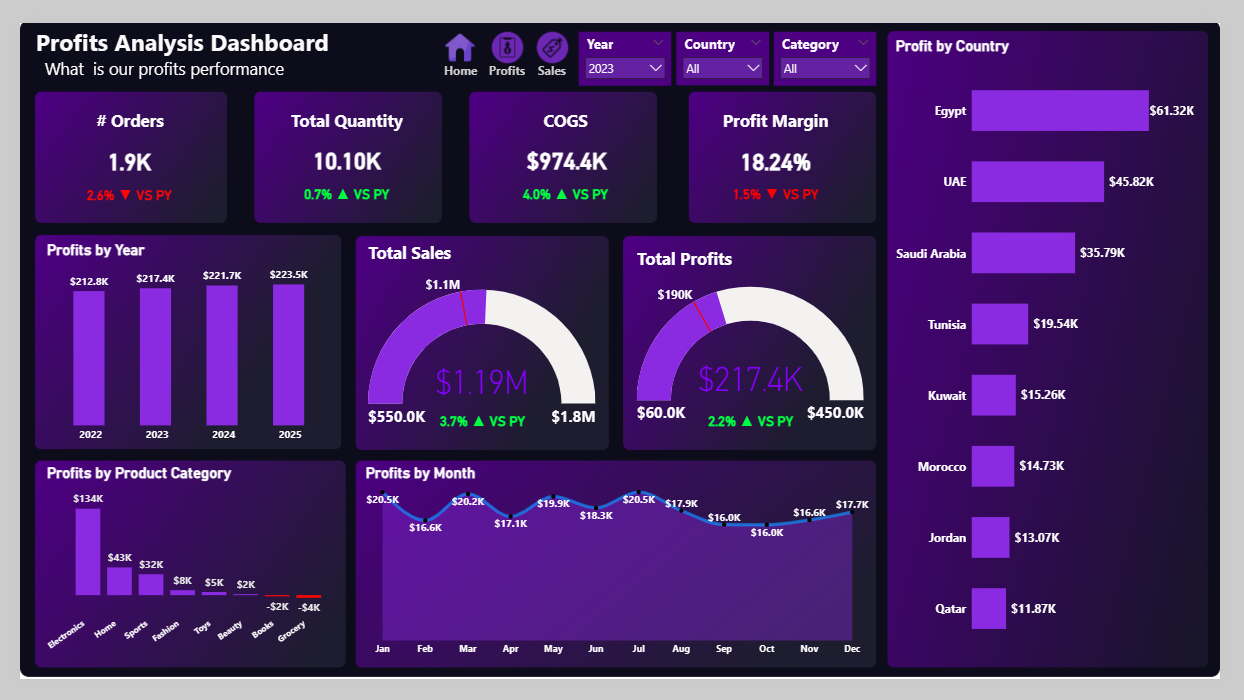

What the dashboard file says about the page in this screenshot:
{"tool":"powerbi","page":{"name":"Profits Dashboard","canvas":[1920,1050],"ordinal":2},"visuals":[{"type":"textbox","box":[20,0,525,106.7],"z":0},{"type":"card","fields":{"Values":["AllMeasures.#Orders"]},"box":[20,108,310,222],"z":1000},{"type":"textbox","box":[114,132,124,50],"z":2000},{"type":"card","fields":{"Values":["AllMeasures.TotalQuantity"]},"box":[368,106,310,222],"z":3000},{"type":"textbox","box":[428,132,190,50],"z":4000},{"type":"card","fields":{"Values":["AllMeasures (2).COGS"]},"box":[720,106,310,222],"z":5000},{"type":"textbox","box":[778,132,190,50],"z":6000},{"type":"card","fields":{"Values":["AllMeasures (2).Profit Margin"]},"box":[1054,108,310,222],"z":7000},{"type":"textbox","box":[1114,132,190,50],"z":8000},{"type":"gauge","title":"Total Sales","fields":{"TargetValue":["AllMeasures.SalesTarget"],"MinValue":["AllMeasures.MinGauage"],"MaxValue":["AllMeasures.MaxGauage"],"Y":["AllMeasures.TotalSales"]},"box":[552,348,374,316],"z":9000},{"type":"gauge","title":"Total Profits","fields":{"Y":["AllMeasures.TotalProfits"],"TargetValue":["AllMeasures.ProfitsTarget"],"MinValue":["AllMeasures.MinProfitsGauage"],"MaxValue":["AllMeasures.MaxProfitsGauage"]},"box":[982,348,380,336],"z":10000},{"type":"clusteredColumnChart","title":"Profits by Year","fields":{"Category":["Dim_Date.Year"],"Y":["AllMeasures.TotalProfits"]},"box":[38,348,470,332],"z":11000},{"type":"lineChart","title":"Profits by Month","fields":{"Category":["Dim_Date.Month Name"],"Y":["AllMeasures.TotalProfits"]},"box":[548,706,816,316],"z":12000},{"type":"clusteredColumnChart","title":"Profits by Product Category","fields":{"Category":["Dim_Product.Category"],"Y":["AllMeasures.TotalProfits"]},"box":[38,706,470,316],"z":13000},{"type":"slicer","fields":{"Values":["Dim_Product.Category"]},"box":[1206,14,164,86],"z":15000},{"type":"slicer","fields":{"Values":["Dim_Date.Year"]},"box":[894,14,148,86],"z":16000},{"type":"clusteredBarChart","title":"Profit by Country","fields":{"Category":["Dim_Customer.Country"],"Y":["AllMeasures.TotalProfits"]},"box":[1395.1,21.6,487.2,1001.3],"z":17000},{"type":"image","box":[653.7,14.3,100,50],"z":18000,"group":"g3"},{"type":"group","id":"g1","title":"Group 2","box":[800.4,14.3,102,102],"z":18000},{"type":"group","id":"g2","title":"Group 3","box":[727,14.3,102,102],"z":19000},{"type":"group","id":"g3","title":"Group 4","box":[653.7,14.3,102,102],"z":20000},{"type":"image","box":[729,14.3,100,50],"z":20000,"group":"g2"},{"type":"image","box":[802.4,14.3,100,50],"z":21000,"group":"g1"},{"type":"card","fields":{"Values":["AllMeasures.OrdersNumYOYpct"]},"box":[58,242,234,66],"z":21000},{"type":"textbox","box":[653.7,58.3,102,58],"z":22000,"group":"g3"},{"type":"card","fields":{"Values":["AllMeasures.T.QuantityYOYpct"]},"box":[414,240,218,66],"z":22000},{"type":"textbox","box":[727,58.3,102,58],"z":23000,"group":"g2"},{"type":"card","fields":{"Values":["AllMeasures.COGSYOYpct"]},"box":[764,240,218,66],"z":23000},{"type":"textbox","box":[800.4,58.3,102,58],"z":24000,"group":"g1"},{"type":"card","fields":{"Values":["AllMeasures.ProfitMarginYOYpct"]},"box":[1100,240,218,66],"z":24000},{"type":"card","fields":{"Values":["AllMeasures.T.SalesYOYpct"]},"box":[664,610,180,54],"z":25000},{"type":"card","fields":{"Values":["AllMeasures.TotalProfitspct"]},"box":[1082,610,180,54],"z":26000},{"type":"slicer","fields":{"Values":["Dim_Customer.Country"]},"box":[1049.7,14.3,148.5,85.9],"z":26001}]}

Visuals, with their boxes in screenshot pixels (x1, y1, x2, y2), scaled from the page's 1920x1050 canvas onto the 1244x700 screenshot:
textbox: (left=13, top=0, right=353, bottom=71)
card - AllMeasures.#Orders: (left=13, top=72, right=214, bottom=220)
textbox: (left=74, top=88, right=154, bottom=121)
card - AllMeasures.TotalQuantity: (left=238, top=71, right=439, bottom=219)
textbox: (left=277, top=88, right=400, bottom=121)
card - AllMeasures (2).COGS: (left=466, top=71, right=667, bottom=219)
textbox: (left=504, top=88, right=627, bottom=121)
card - AllMeasures (2).Profit Margin: (left=683, top=72, right=884, bottom=220)
textbox: (left=722, top=88, right=845, bottom=121)
"Total Sales" gauge: (left=358, top=232, right=600, bottom=443)
"Total Profits" gauge: (left=636, top=232, right=882, bottom=456)
"Profits by Year" clusteredColumnChart: (left=25, top=232, right=329, bottom=453)
"Profits by Month" lineChart: (left=355, top=471, right=884, bottom=681)
"Profits by Product Category" clusteredColumnChart: (left=25, top=471, right=329, bottom=681)
slicer - Dim_Product.Category: (left=781, top=9, right=888, bottom=67)
slicer - Dim_Date.Year: (left=579, top=9, right=675, bottom=67)
"Profit by Country" clusteredBarChart: (left=904, top=14, right=1220, bottom=682)
image: (left=424, top=10, right=488, bottom=43)
"Group 2" group: (left=519, top=10, right=585, bottom=78)
"Group 3" group: (left=471, top=10, right=537, bottom=78)
"Group 4" group: (left=424, top=10, right=490, bottom=78)
image: (left=472, top=10, right=537, bottom=43)
image: (left=520, top=10, right=585, bottom=43)
card - AllMeasures.OrdersNumYOYpct: (left=38, top=161, right=189, bottom=205)
textbox: (left=424, top=39, right=490, bottom=78)
card - AllMeasures.T.QuantityYOYpct: (left=268, top=160, right=409, bottom=204)
textbox: (left=471, top=39, right=537, bottom=78)
card - AllMeasures.COGSYOYpct: (left=495, top=160, right=636, bottom=204)
textbox: (left=519, top=39, right=585, bottom=78)
card - AllMeasures.ProfitMarginYOYpct: (left=713, top=160, right=854, bottom=204)
card - AllMeasures.T.SalesYOYpct: (left=430, top=407, right=547, bottom=443)
card - AllMeasures.TotalProfitspct: (left=701, top=407, right=818, bottom=443)
slicer - Dim_Customer.Country: (left=680, top=10, right=776, bottom=67)
